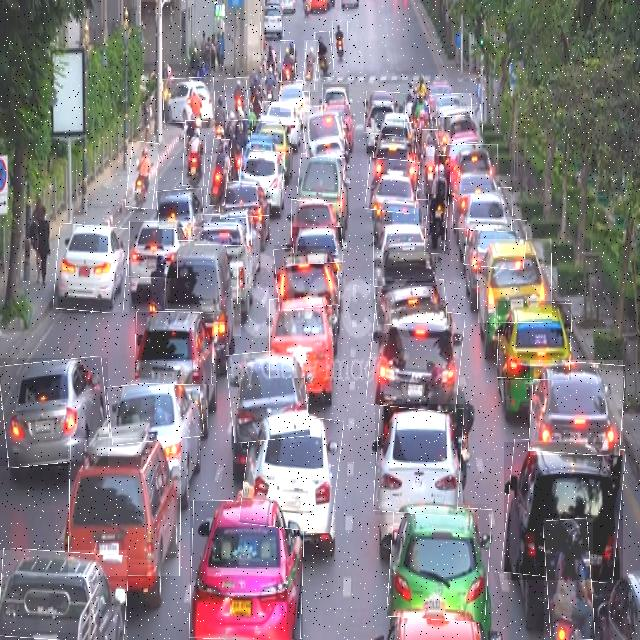Car: (504, 442, 623, 580), (190, 501, 303, 640), (68, 438, 181, 576), (389, 504, 491, 620), (0, 358, 109, 466), (242, 413, 342, 530), (375, 404, 463, 515), (369, 307, 463, 410), (530, 360, 623, 455), (228, 350, 308, 442), (55, 225, 129, 312), (478, 239, 552, 323), (109, 381, 203, 443), (498, 301, 571, 380), (136, 312, 213, 384), (269, 299, 332, 378), (166, 241, 238, 310), (274, 246, 338, 310), (465, 217, 526, 269), (373, 236, 436, 286), (376, 281, 446, 324), (367, 159, 419, 213), (377, 199, 432, 250), (452, 185, 512, 231), (129, 222, 178, 278), (452, 144, 499, 195), (163, 77, 214, 123), (298, 154, 344, 203), (303, 105, 344, 157), (219, 180, 272, 218), (194, 214, 252, 246), (292, 227, 342, 264), (240, 148, 285, 188), (157, 190, 204, 228), (436, 106, 483, 144), (364, 92, 406, 134), (291, 199, 336, 238), (374, 121, 417, 160), (250, 121, 291, 152), (430, 93, 472, 117), (280, 81, 310, 112), (262, 102, 302, 125), (322, 84, 349, 116), (261, 6, 284, 36)
Motorcycle: (544, 518, 593, 640), (426, 156, 450, 254), (127, 142, 158, 209), (183, 121, 206, 186), (208, 139, 230, 206), (225, 77, 249, 121), (422, 129, 438, 194), (316, 32, 333, 78), (304, 40, 318, 92), (333, 21, 348, 65), (281, 40, 295, 85)
Truck: (0, 550, 127, 640)
